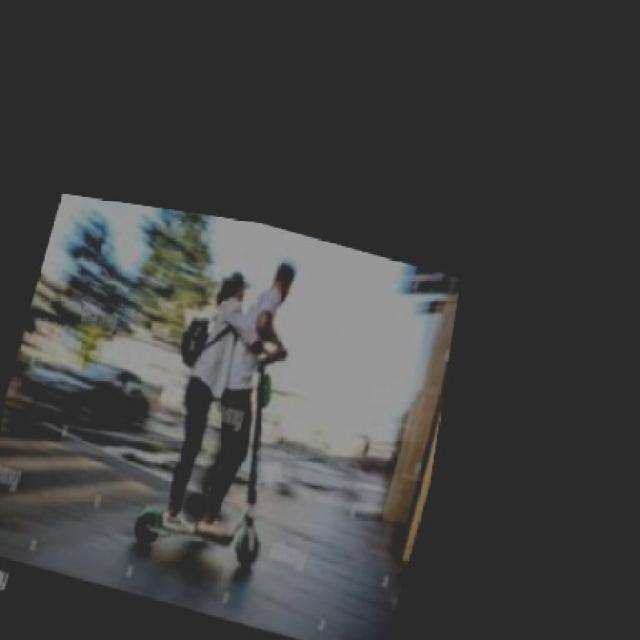bare_head: (263, 262, 303, 303), (210, 271, 252, 305)
human: (199, 263, 299, 533), (151, 273, 247, 529)
kickboard: (120, 499, 266, 566)
